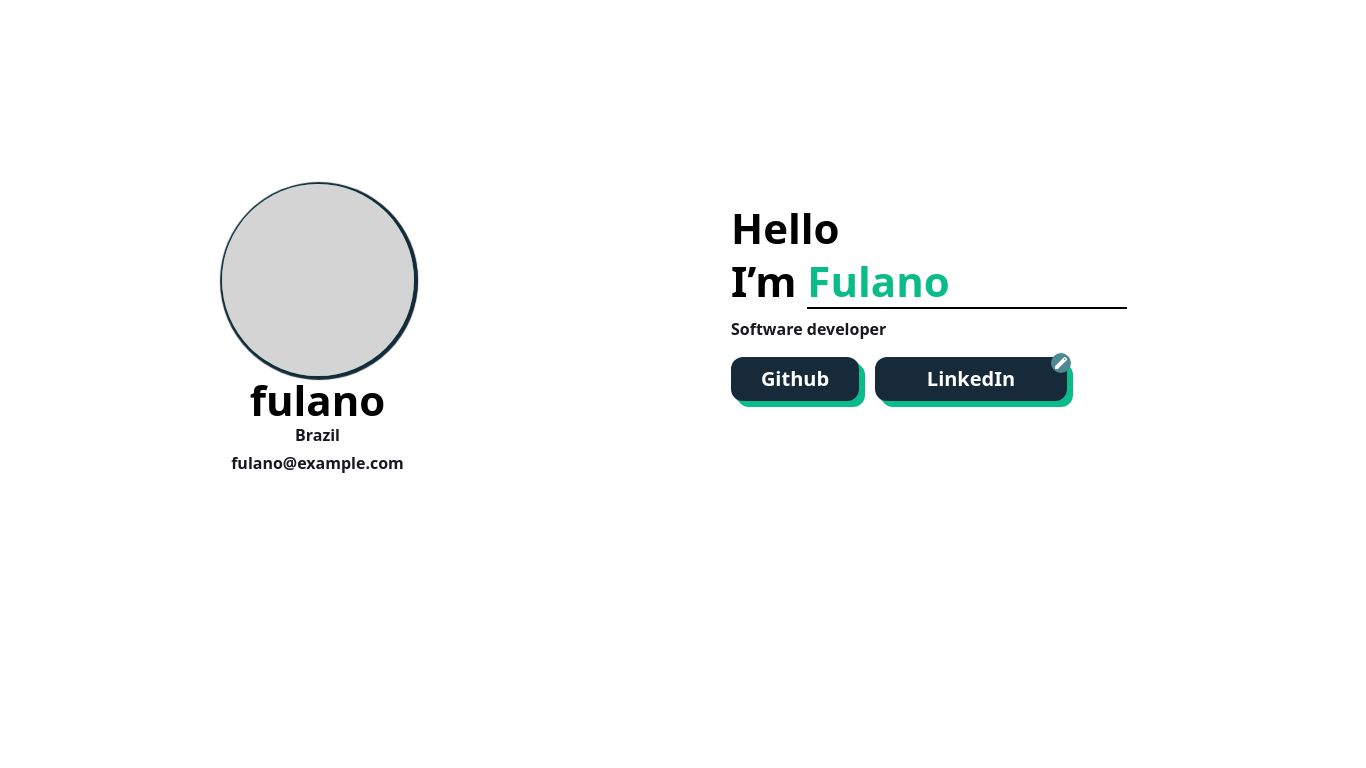
Test: Profile Component › closes the LinkModal when the cancel button is clicked
Click the button "LinkedIn" at (971,379), box [875,357,1067,401]
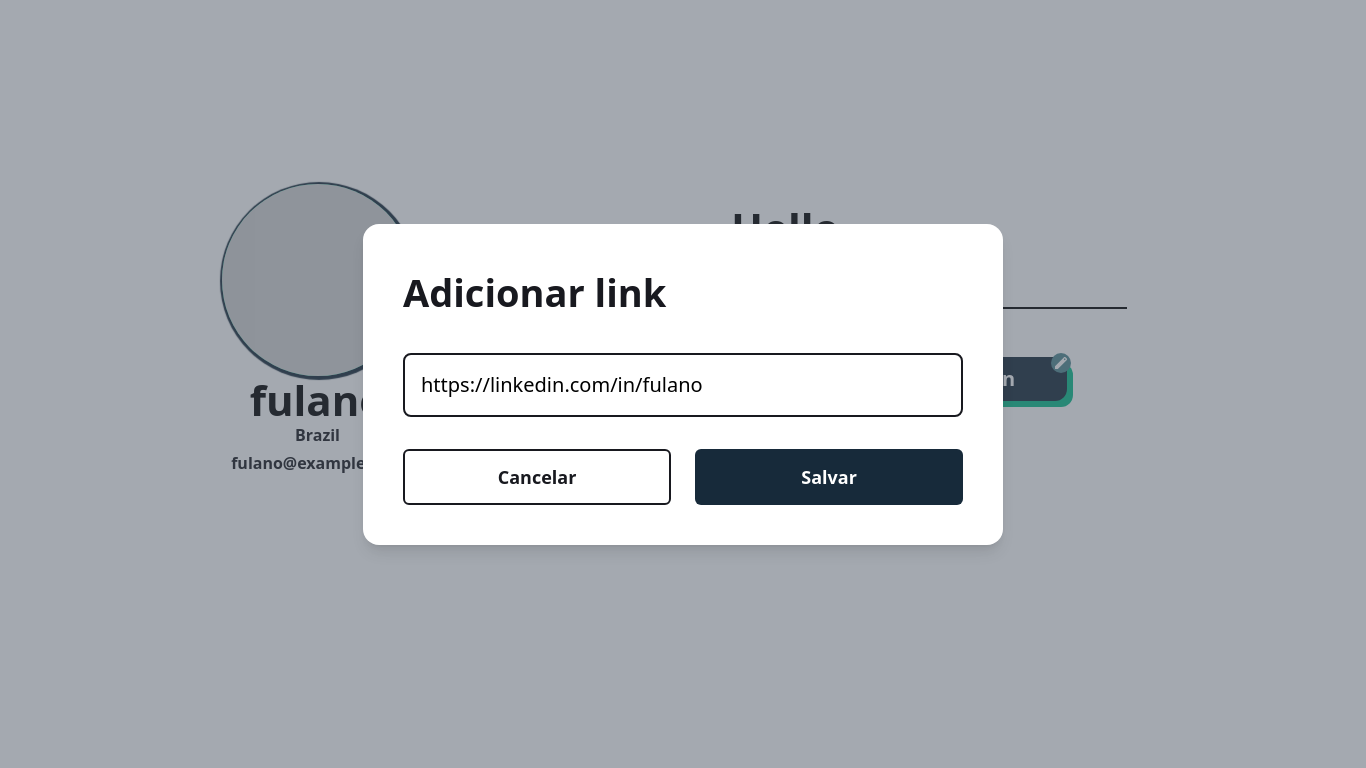
Click the button "Cancelar" at (537,476), box [403,448,671,504]
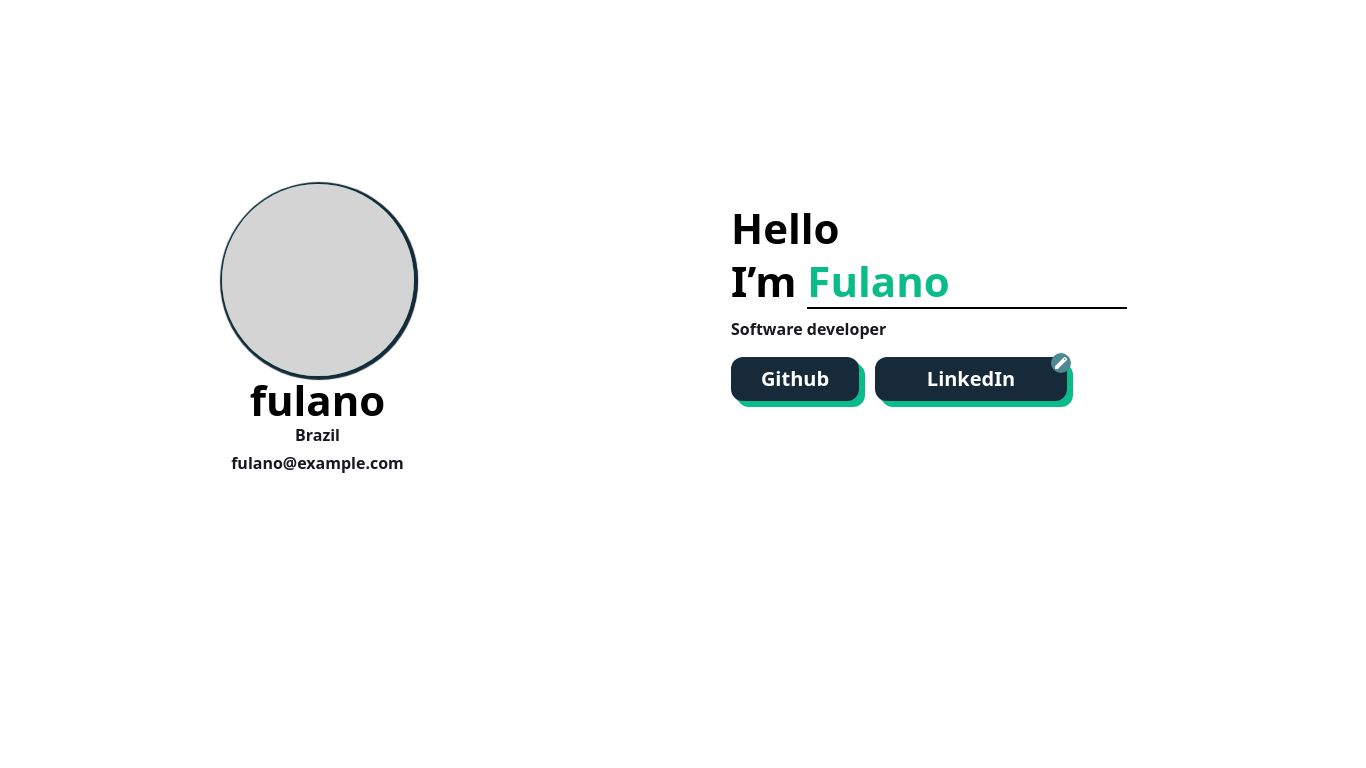
Result: the heading "Adicionar link" is gone
